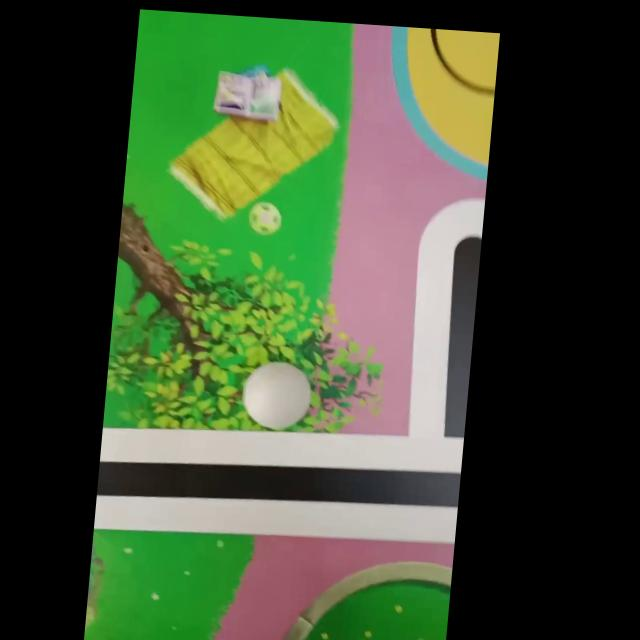white ball: (239, 358, 315, 432)
